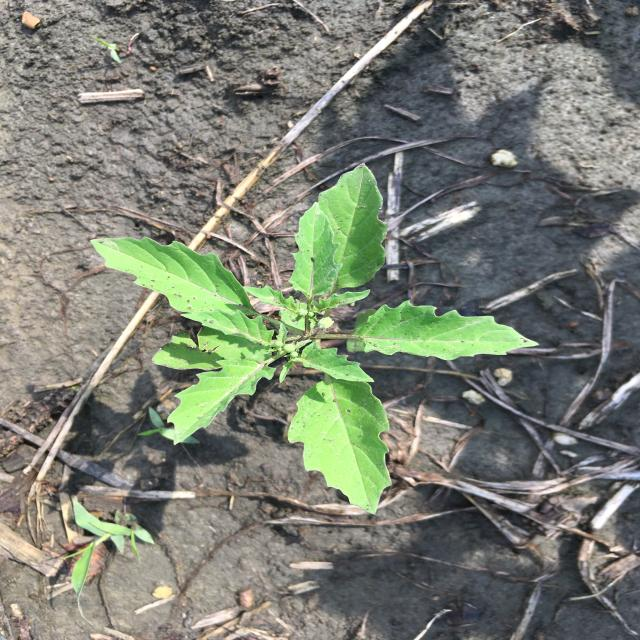CutleafGroundcherry: (88, 161, 543, 517)
